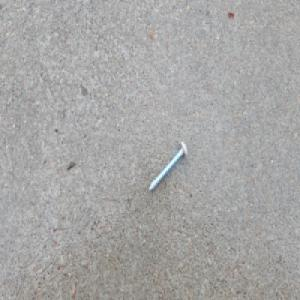Nail: (147, 139, 188, 194)
